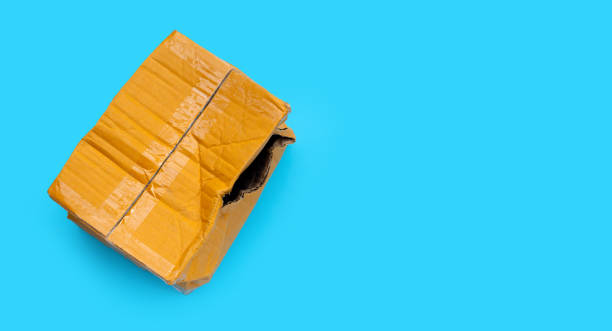damaged package: (203, 111, 296, 217)
